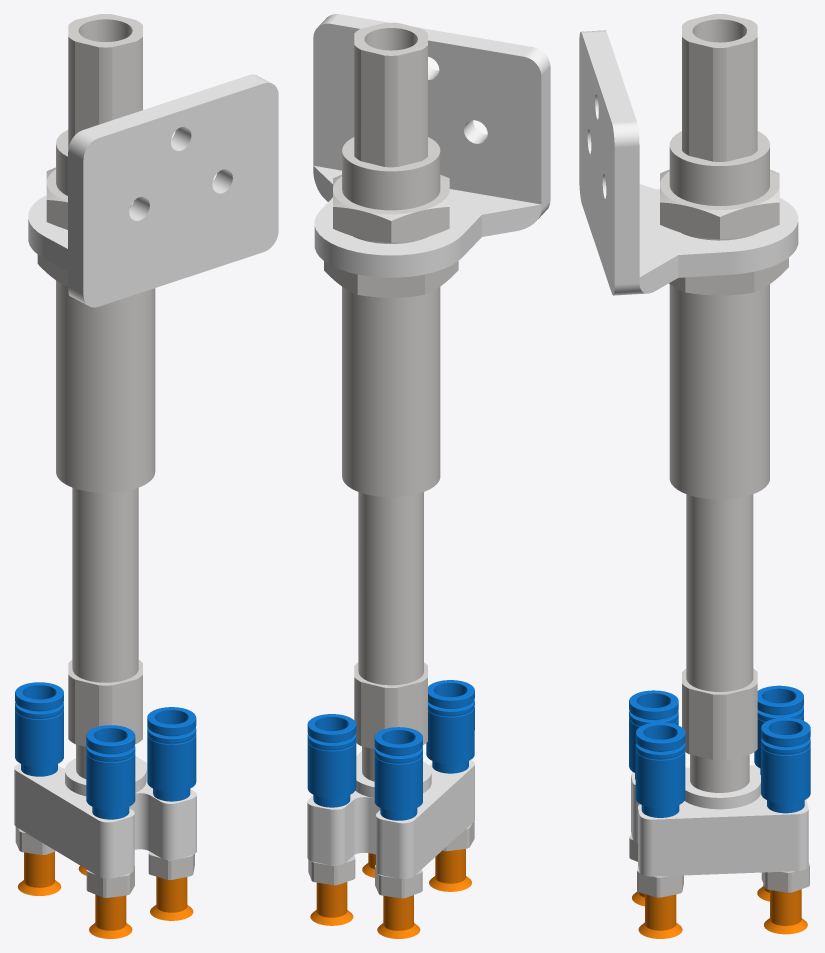
Rendered from Ensamblaje_Ventosas.glb.
The picture shows the model from 3 angles, left to right: view 1: azimuth 30°, elevation 25°; view 2: azimuth 150°, elevation 25°; view 3: azimuth 270°, elevation 25°; orthographic projection. The views are drawn at different scales.
Visible parts, largest first — view 1: Escuadra soporte Ventosas-1, Body threaded-1, 2_Platina 22.5 x31.5-1, Rod vacuum-1, Piab adaptor nut G18-1, Adaptor nut G18-1, 4_Racor 8x16R3mm-5, 4_Racor 8x16R3mm-3, 4_Racor 8x16R3mm-1, 1_Ventosa7 x 7-1, 1_Ventosa7 x 7-2, 1_Ventosa7 x 7-3 (+4 smaller); view 2: Escuadra soporte Ventosas-1, Body threaded-1, Rod vacuum-1, 2_Platina 22.5 x31.5-1, Piab adaptor nut G18-1, Adaptor nut G18-1, Nut M16x1-1, 4_Racor 8x16R3mm-2, 4_Racor 8x16R3mm-1, 4_Racor 8x16R3mm-5, Nut M16x1-2, 1_Ventosa7 x 7-4 (+4 smaller); view 3: Body threaded-1, Escuadra soporte Ventosas-1, 2_Platina 22.5 x31.5-1, Rod vacuum-1, Piab adaptor nut G18-1, Adaptor nut G18-1, Nut M16x1-1, 4_Racor 8x16R3mm-3, 4_Racor 8x16R3mm-2, Nut M16x1-2, 4_Racor 8x16R3mm-5, 4_Racor 8x16R3mm-1 (+4 smaller).
Part boxes in pixels (x1,y1,x2,y2): Escuadra soporte Ventosas-1: [28, 74, 278, 307]; Body threaded-1: [56, 129, 155, 492]; 2_Platina 22.5 x31.5-1: [14, 756, 196, 878]; Rod vacuum-1: [72, 487, 138, 682]; Piab adaptor nut G18-1: [68, 14, 142, 148]; Adaptor nut G18-1: [68, 660, 142, 778]; 4_Racor 8x16R3mm-5: [86, 725, 135, 819]; 4_Racor 8x16R3mm-3: [147, 707, 196, 801]; 4_Racor 8x16R3mm-1: [15, 682, 63, 776]; 1_Ventosa7 x 7-1: [150, 876, 193, 920]; 1_Ventosa7 x 7-2: [89, 894, 132, 938]; 1_Ventosa7 x 7-3: [18, 851, 61, 895]; Escuadra soporte Ventosas-1: [313, 14, 550, 277]; Body threaded-1: [342, 137, 440, 497]; Rod vacuum-1: [358, 492, 423, 685]; 2_Platina 22.5 x31.5-1: [307, 751, 474, 878]; Piab adaptor nut G18-1: [354, 22, 427, 167]; Adaptor nut G18-1: [354, 662, 427, 781]; Nut M16x1-1: [333, 174, 449, 242]; 4_Racor 8x16R3mm-2: [307, 714, 356, 807]; 4_Racor 8x16R3mm-1: [374, 727, 422, 820]; 4_Racor 8x16R3mm-5: [426, 680, 474, 773]; Nut M16x1-2: [324, 261, 458, 297]; 1_Ventosa7 x 7-4: [310, 882, 353, 925]; Body threaded-1: [669, 131, 769, 499]; Escuadra soporte Ventosas-1: [579, 30, 798, 295]; 2_Platina 22.5 x31.5-1: [631, 765, 808, 876]; Rod vacuum-1: [686, 494, 753, 691]; Piab adaptor nut G18-1: [682, 14, 757, 161]; Adaptor nut G18-1: [682, 668, 757, 792]; Nut M16x1-1: [660, 169, 779, 239]; 4_Racor 8x16R3mm-3: [635, 722, 685, 817]; 4_Racor 8x16R3mm-2: [761, 717, 810, 813]; Nut M16x1-2: [669, 258, 788, 295]; 4_Racor 8x16R3mm-5: [629, 690, 678, 779]; 4_Racor 8x16R3mm-1: [754, 685, 803, 774].
Size of the model in its own units: 0.0402 by 0.1545 by 0.0368.
